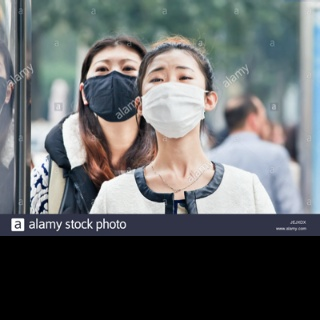with_mask: (140, 63, 207, 140), (84, 56, 144, 124)
